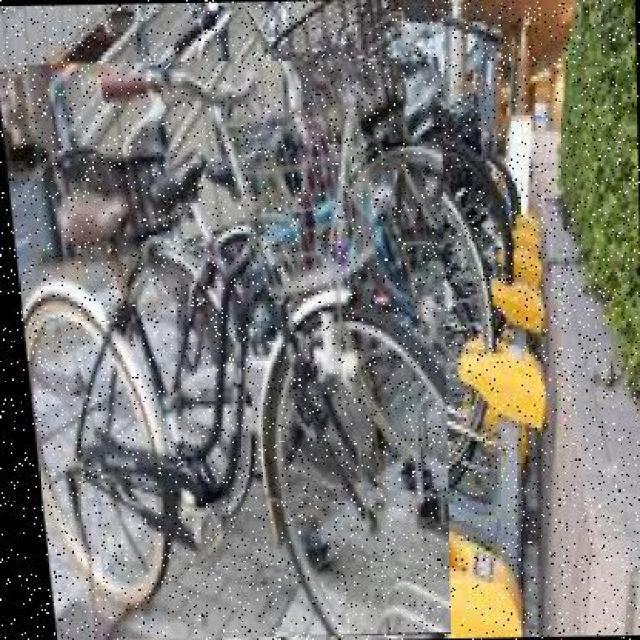bicycle: (1, 57, 455, 640)
